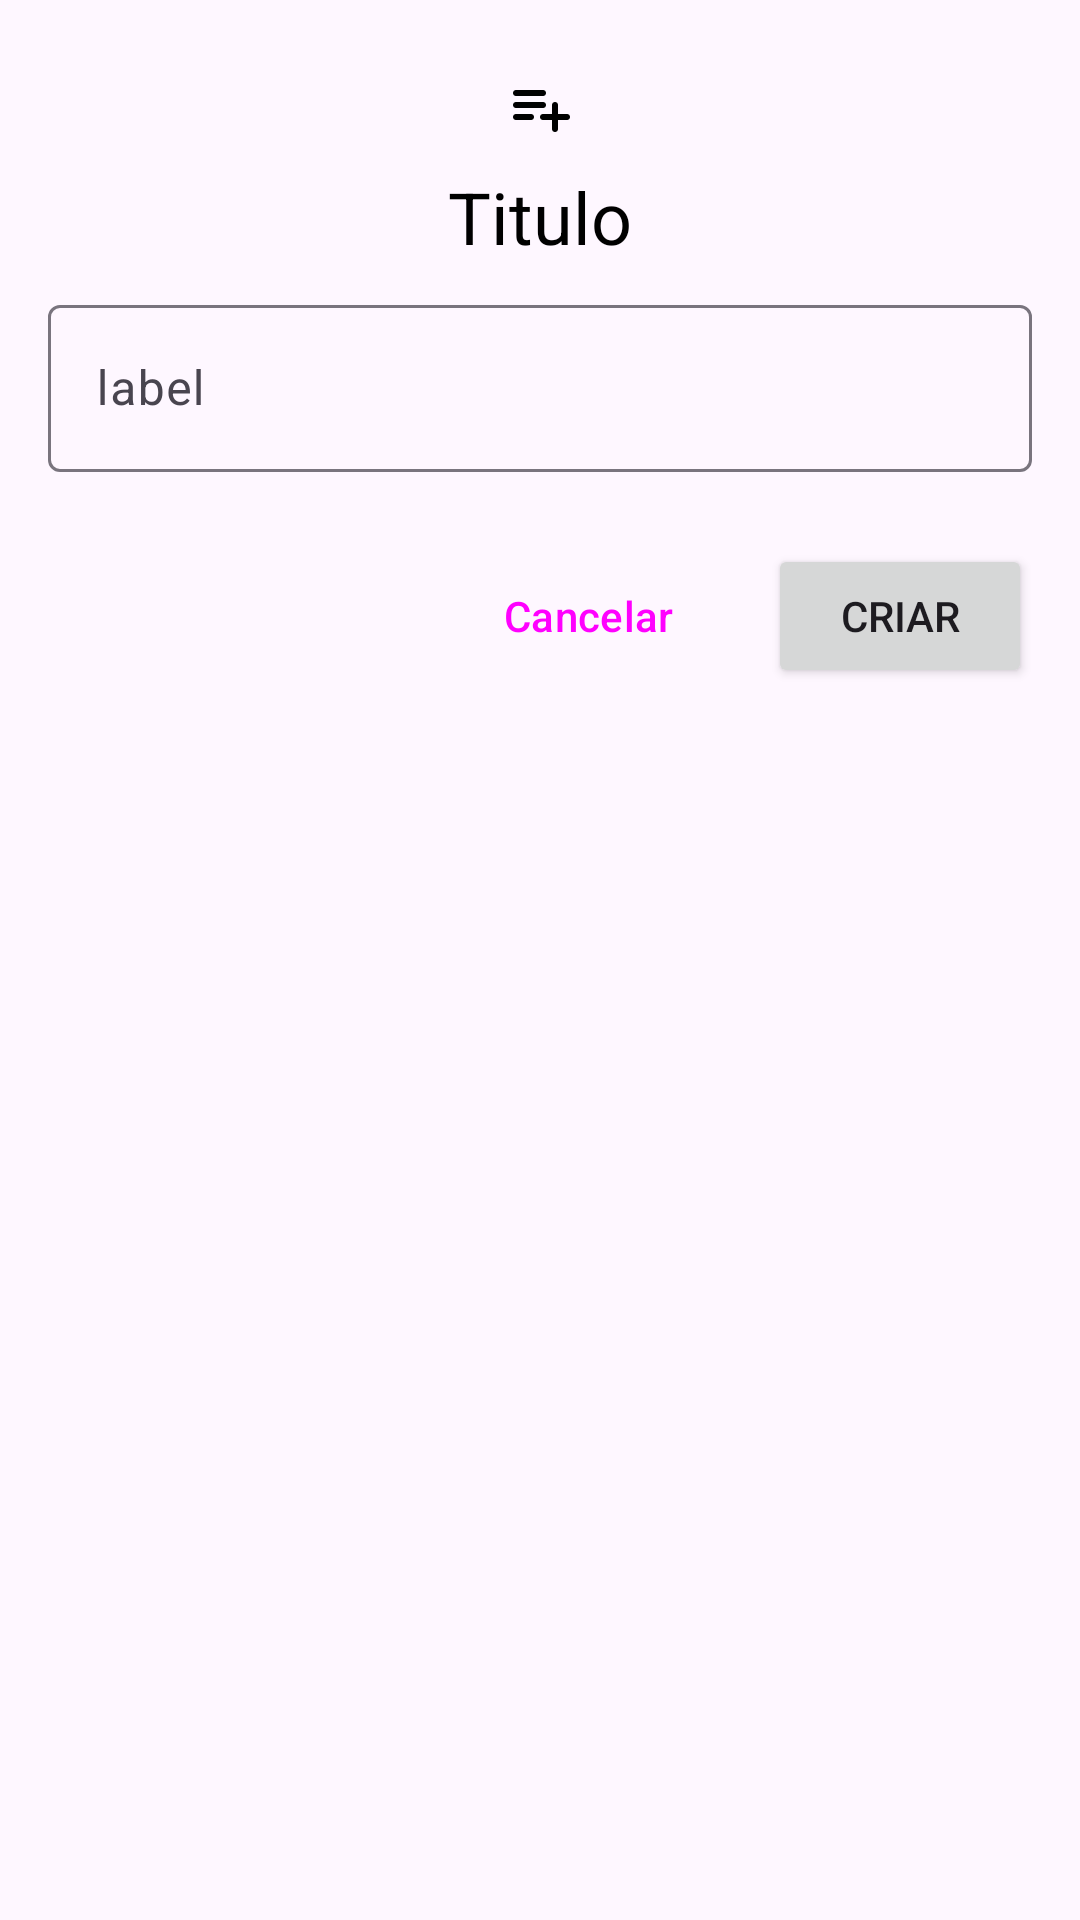

Named icons in this screenshot (1080 x 1920) and their centers, (x=x, y=y):
Playlist add icon: (x=541, y=111)
